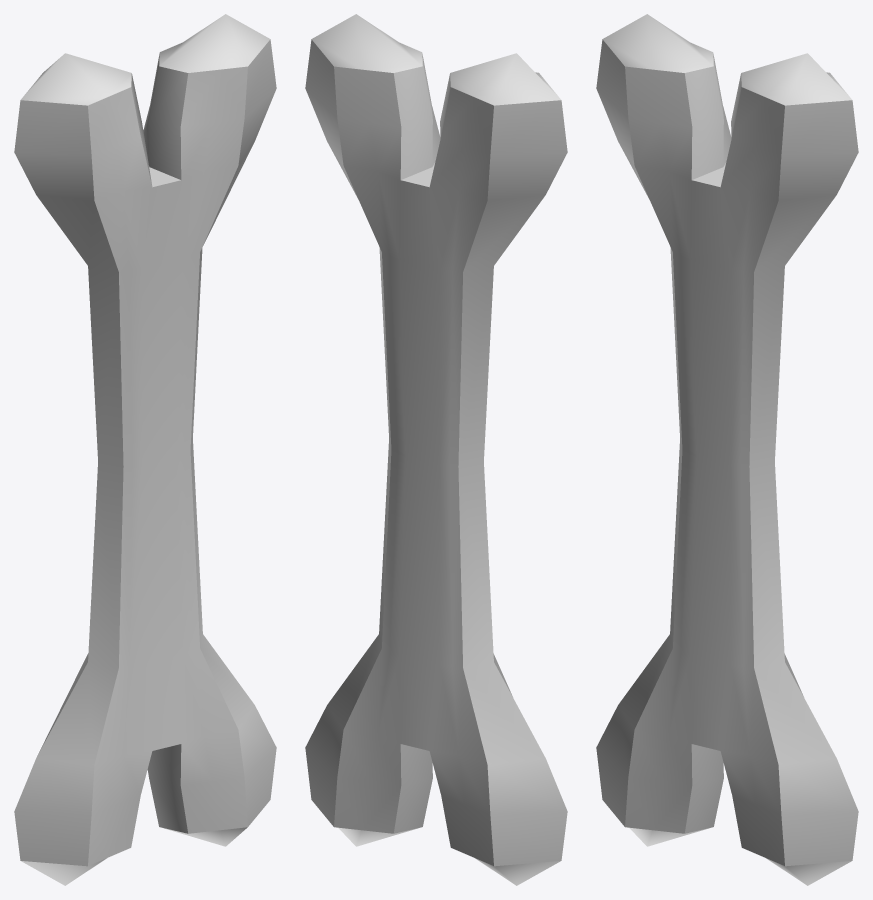
Rendered from bone.glb.
3 renders of one model, left to right at view 1: azimuth 30°, elevation 25°; view 2: azimuth 150°, elevation 25°; view 3: azimuth 330°, elevation 25°, orthographic.
Visible parts, largest first — view 1: pCylinder1; view 2: pCylinder1; view 3: pCylinder1.
Part boxes in pixels (x1,y1,x2,y2): pCylinder1: (14, 14, 276, 885); pCylinder1: (305, 14, 567, 885); pCylinder1: (596, 14, 858, 885).
Bounding box in the file's own units: 0.0547 × 0.1658 × 0.0163.
1 material, 1 textured.
